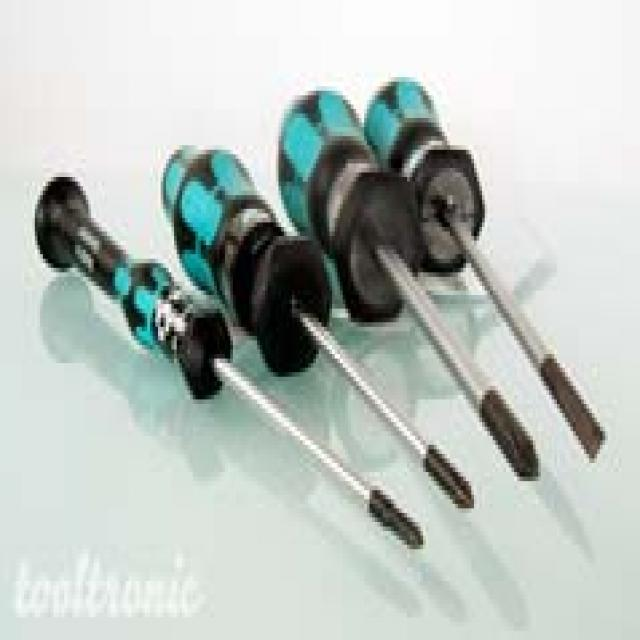screwdriver: (34, 172, 418, 640), (162, 110, 485, 520), (368, 47, 628, 530), (276, 70, 548, 526)
